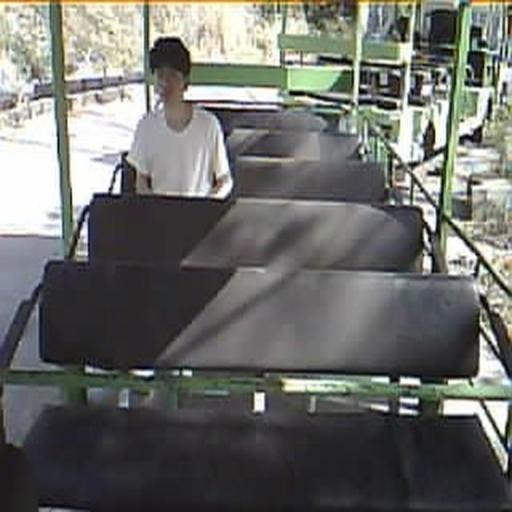persona: (126, 35, 235, 202)
